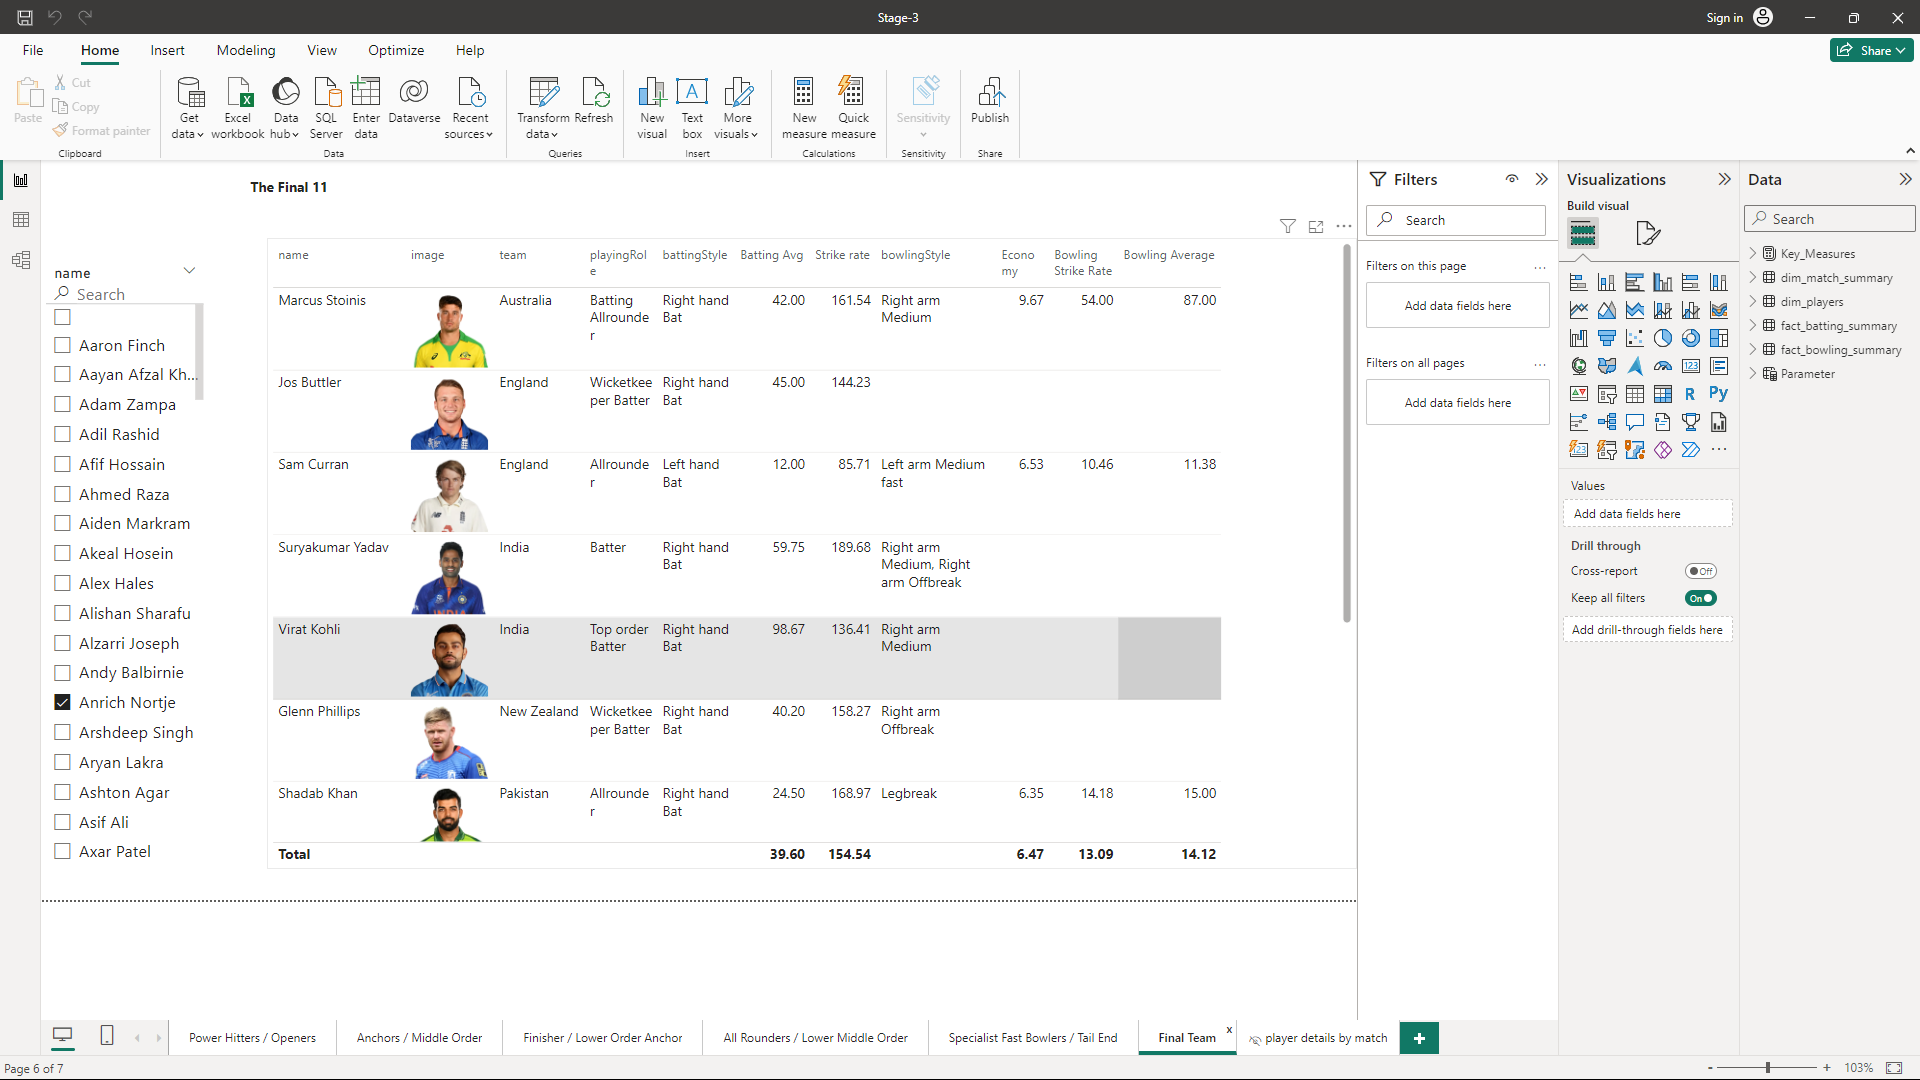

The dashboard page shown, as its layout file describes it:
{"tool":"powerbi","page":{"name":"Final Team","canvas":[1280,720],"ordinal":1},"visuals":[{"type":"tableEx","fields":{"Values":["dim_player.name","dim_player.image","dim_player.team","dim_player.Playing Role","dim_player.Batting Style","Key_Measures.Bat Avg","Key_Measures.Strike rate","dim_player.Bowling Style","Key_Measures.Economy","Key_Measures.Bowling Strike Rate","Key_Measures.Bowling Average"]},"box":[219.8,75.9,1060.2,613.7],"z":0},{"type":"slicer","fields":{"Values":["dim_player.name"]},"box":[0,96.3,163.4,593.3],"z":1000},{"type":"textbox","box":[198.4,11.7,106,29.2],"z":2000}]}

Visuals, with their boxes on the page's 1280x720 design canvas (x1, y1, x2, y2). These are canvas units, not pixel positions in the 1920x1080 screenshot, which may show the page scaled, cropped or inside an application window:
tableEx - dim_player.name x dim_player.image: pyautogui.locateOnScreen(220, 76, 1280, 690)
slicer - dim_player.name: pyautogui.locateOnScreen(0, 96, 163, 690)
textbox: pyautogui.locateOnScreen(198, 12, 304, 41)
